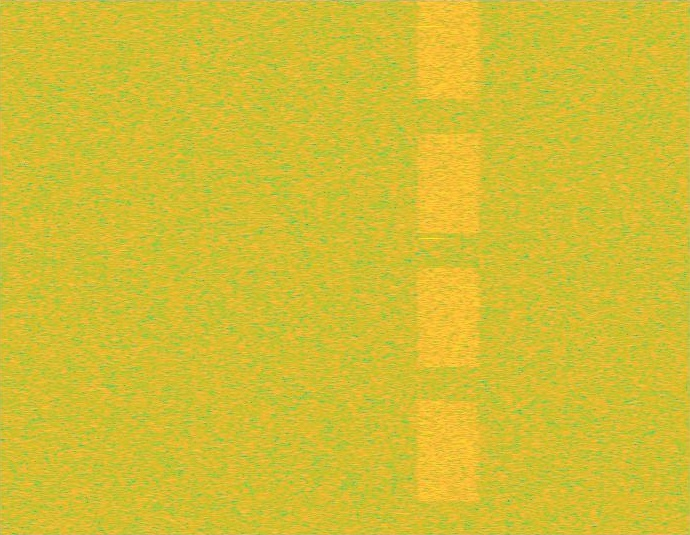5G: (414, 0, 483, 534)
Radar: (425, 0, 438, 534)
